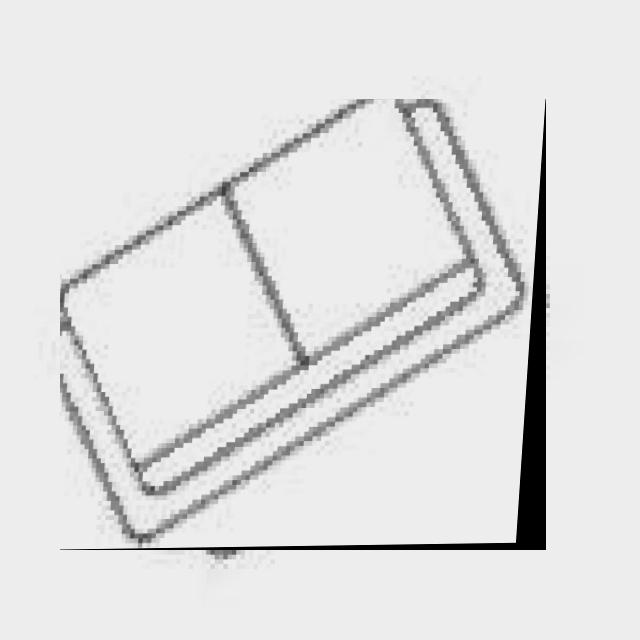sofa: (60, 99, 546, 550)
